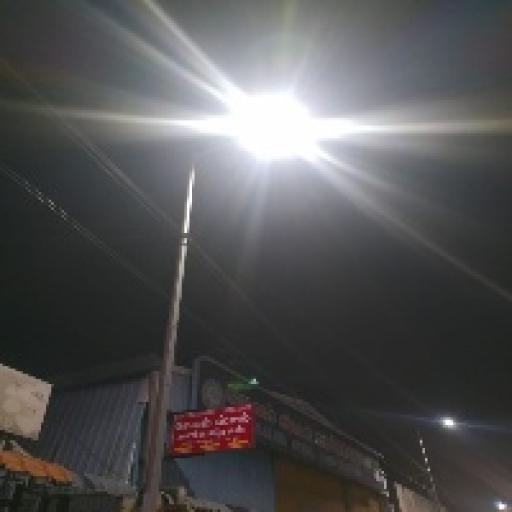Working: (434, 411, 461, 434)
